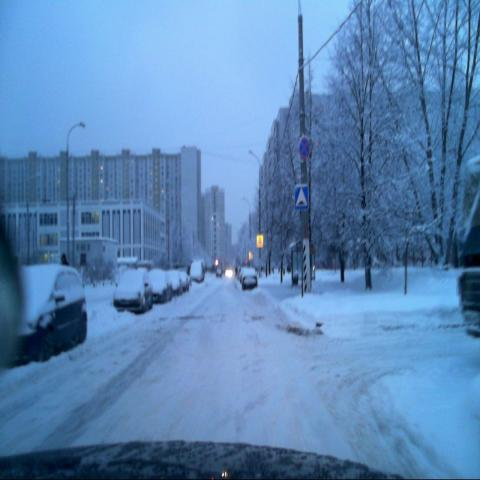5_20: (294, 181, 310, 208)
